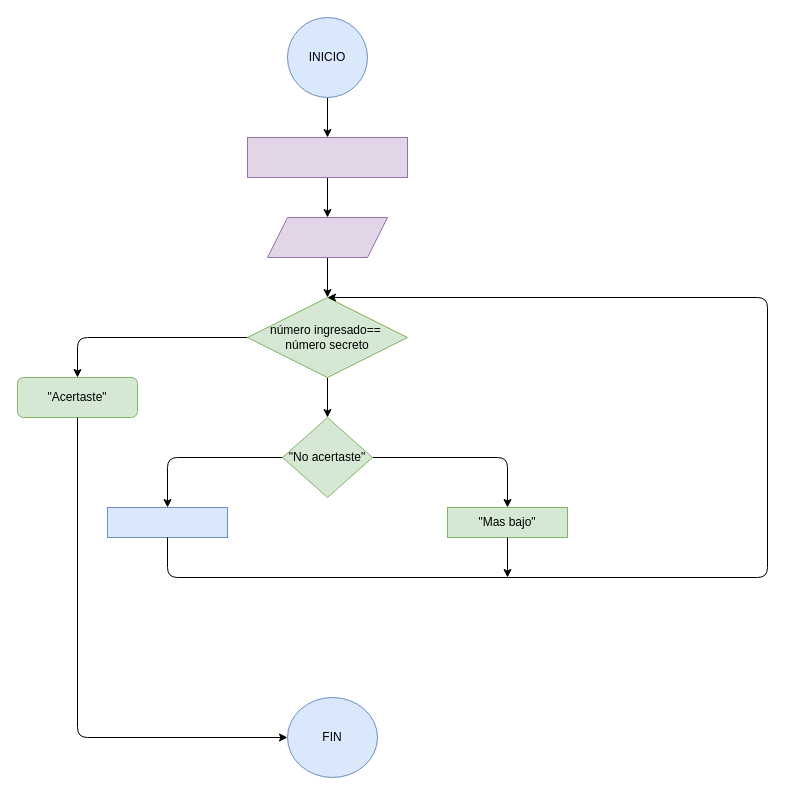
This 793x795 diagram has some shape labels left out. Here are the shapes that lost their labels. From the top down, the centre of each, then its label:
point (327, 157): Selecciona un número (1, 100)
point (327, 237): Solicitar número:
point (167, 522): "Mas Alto"
